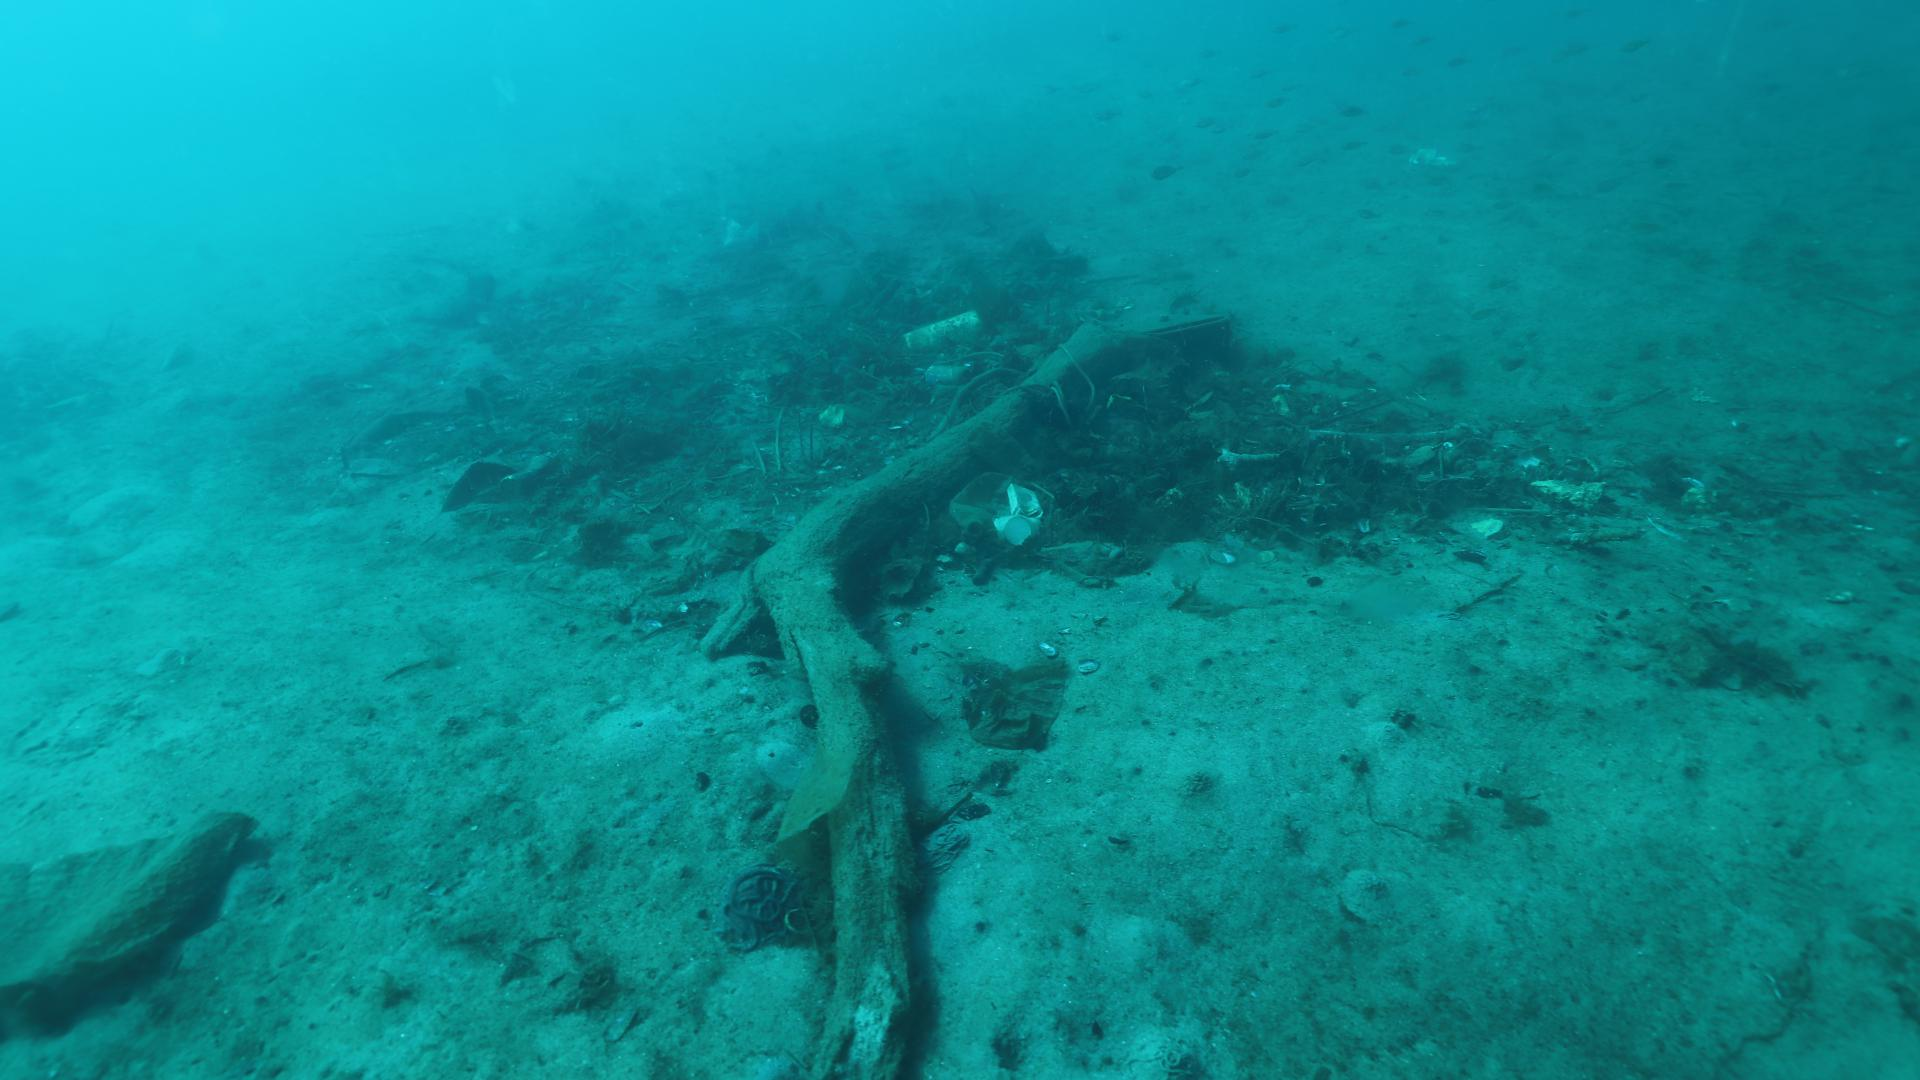wood: (745, 322, 1174, 1080)
